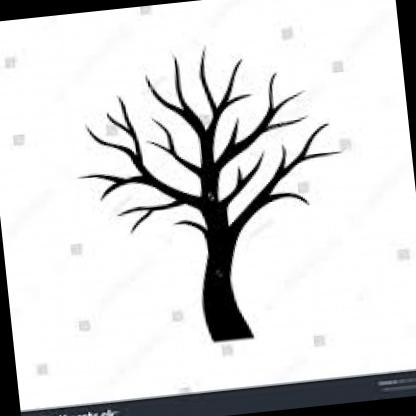branch_sharp: (66, 35, 350, 248)
trunk_reflex: (196, 253, 252, 335)
